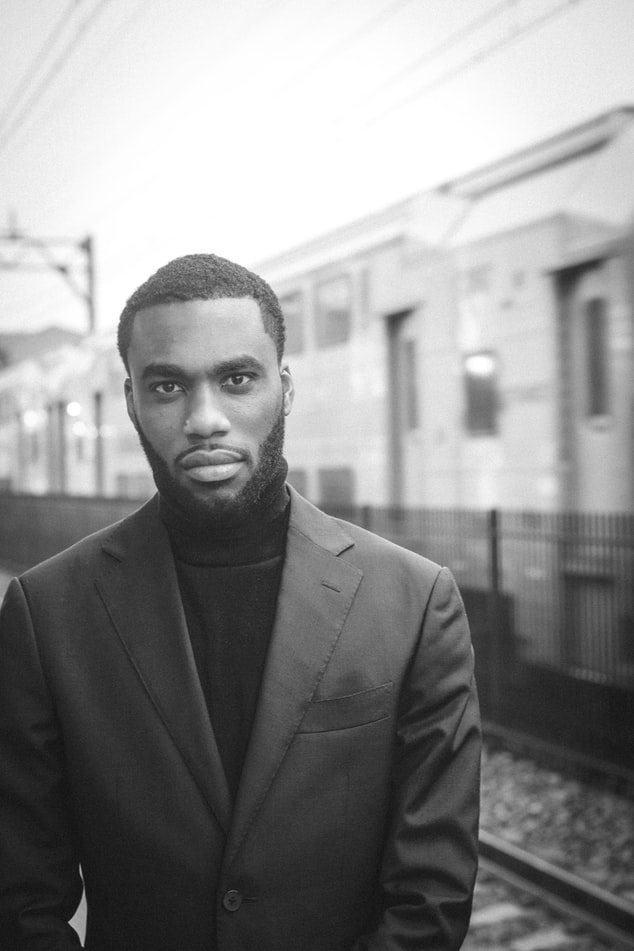beard: (129, 418, 296, 528)
